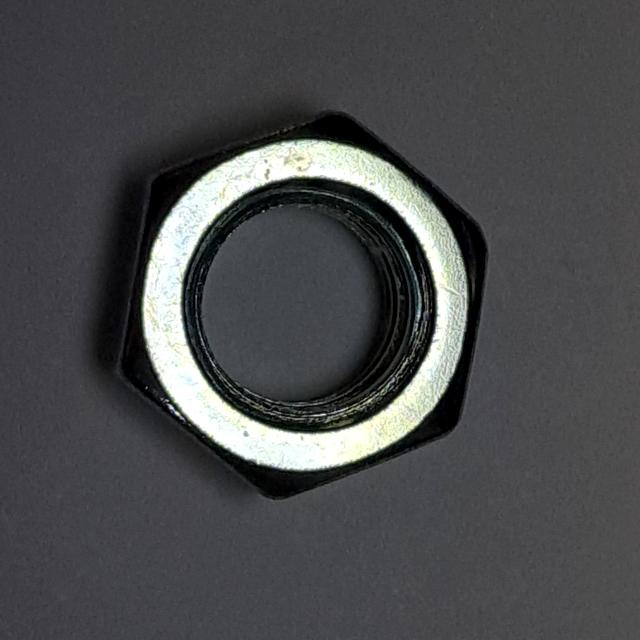Excellent: (91, 94, 505, 513)
